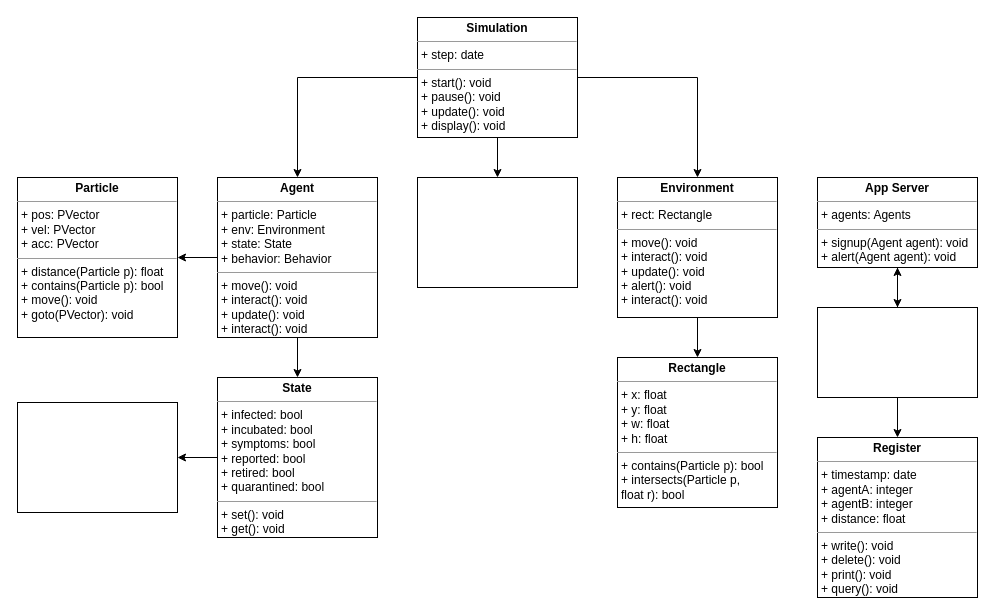
Image size: 995x615. Some labels were removed from this diagram. Each missing label, with the centre of its shape:
"App Client + register: Register + alert(): void + report(): void" goes at [897,352].
"Behavior + prob_retire + prob_alert + retire(): void + quarantine(): void" goes at [97,457].
"Disease + prob_transmission + prob_symptoms + infect(): void + symptoms(): void" goes at [497,232].
